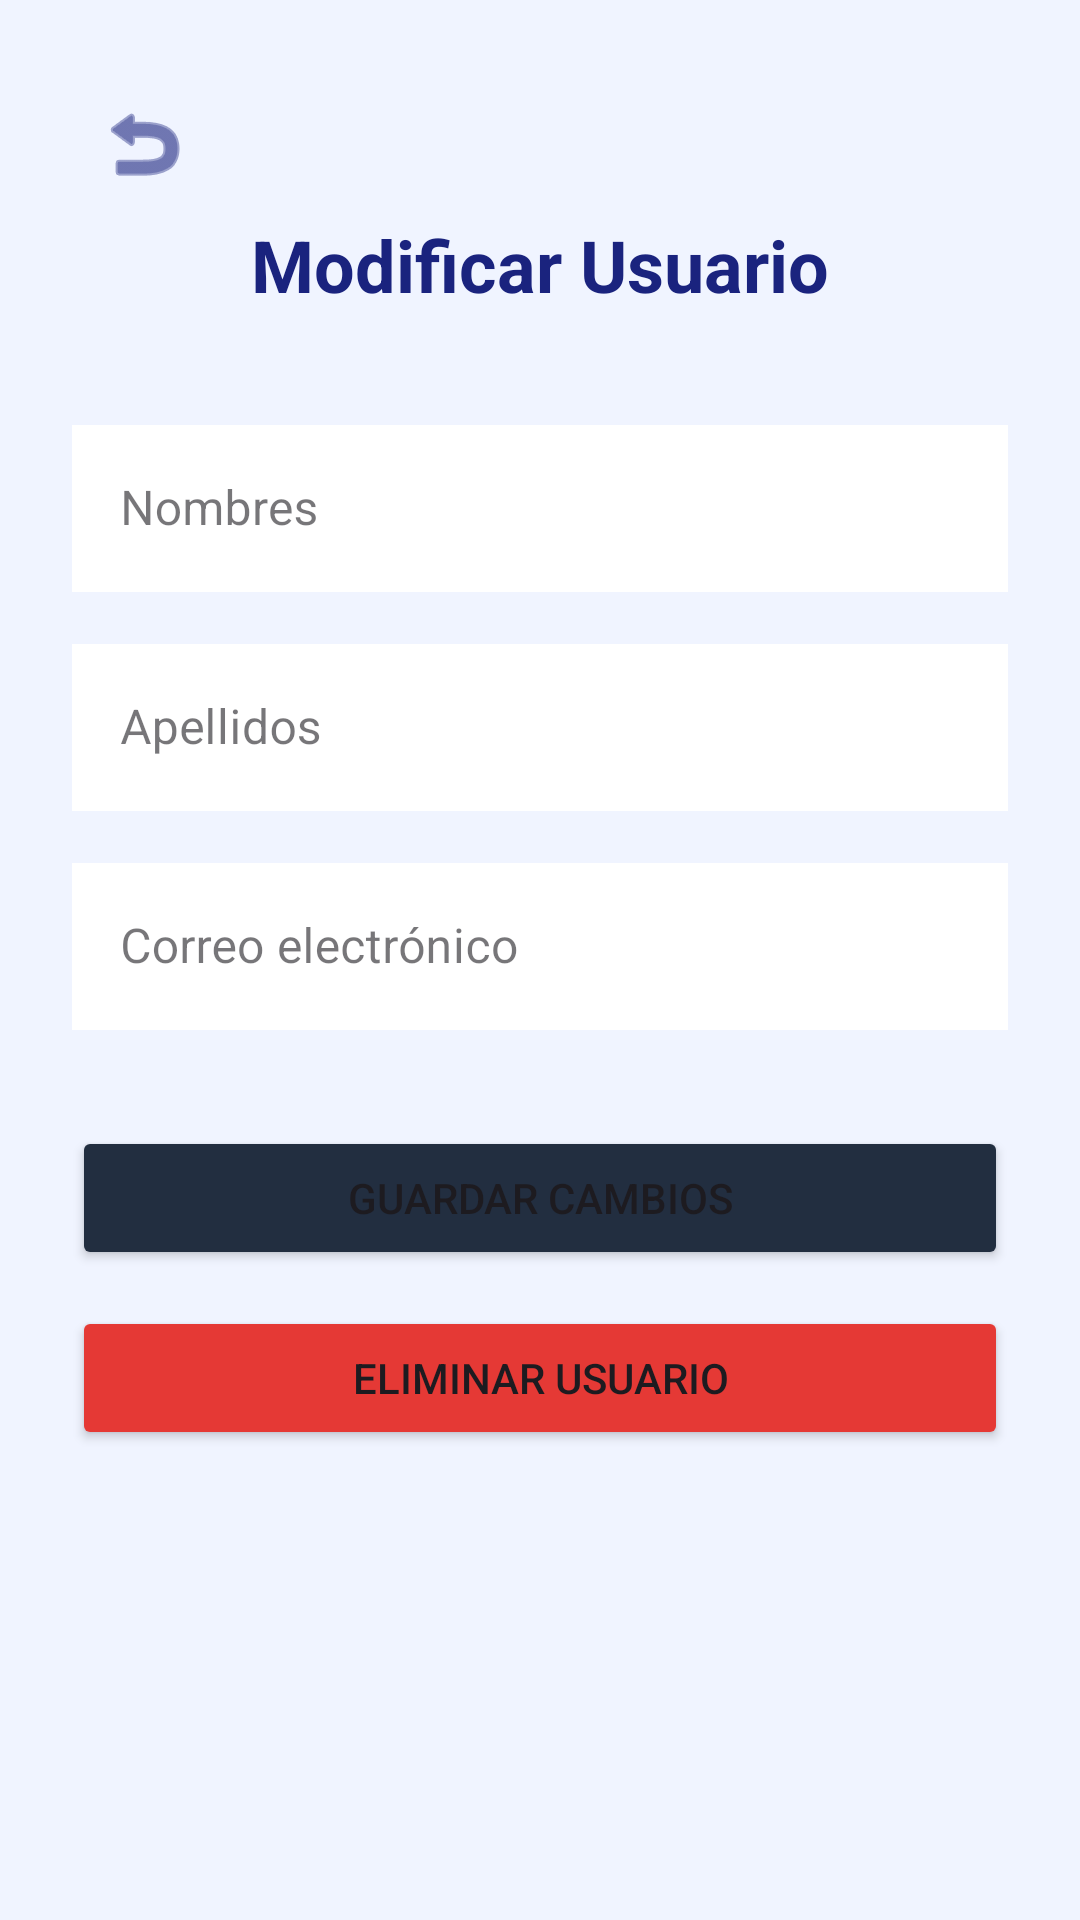

Screen size 1080 × 1920. Icon name, then its box in pixels as (x1, y1, x2, y2):
Volver: (111, 113, 180, 176)
